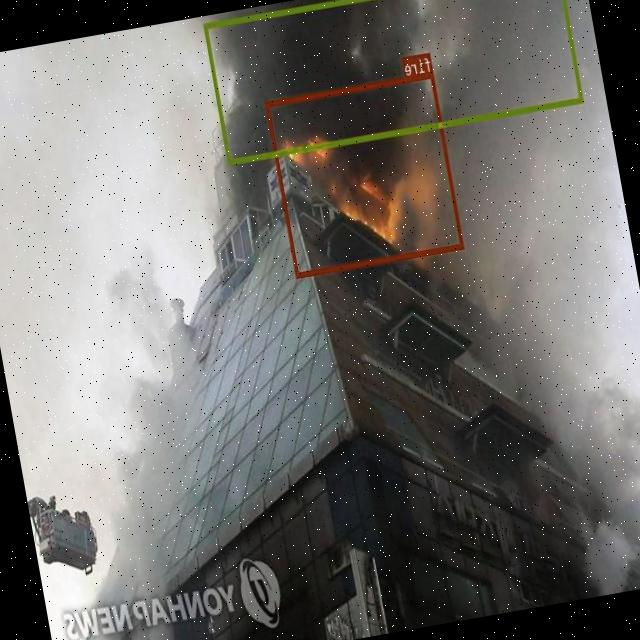fire: (266, 71, 465, 277)
smoke: (204, 0, 584, 164)
